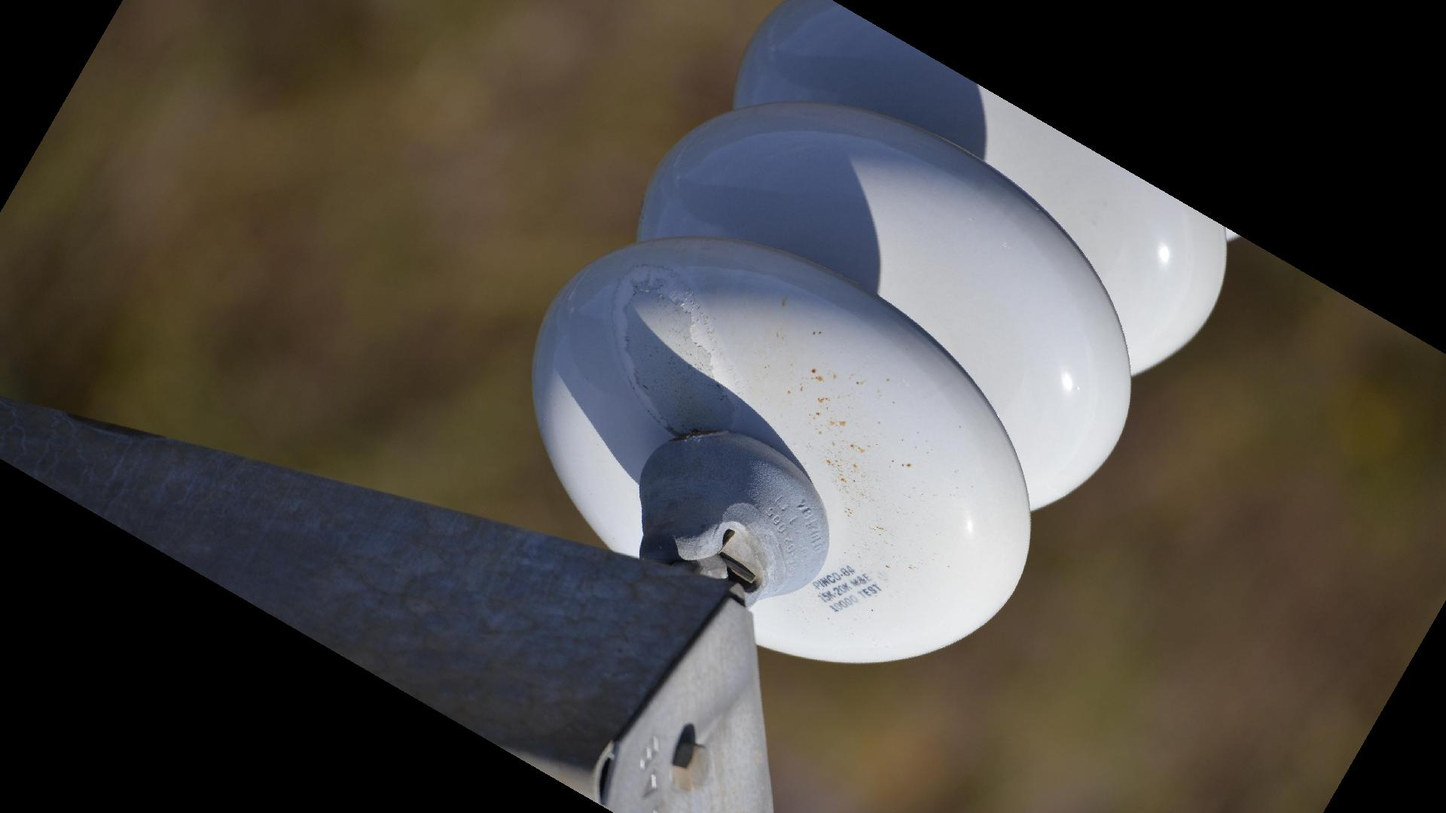insulator: (516, 1, 1239, 674)
insulator_flashover: (609, 261, 742, 444)
